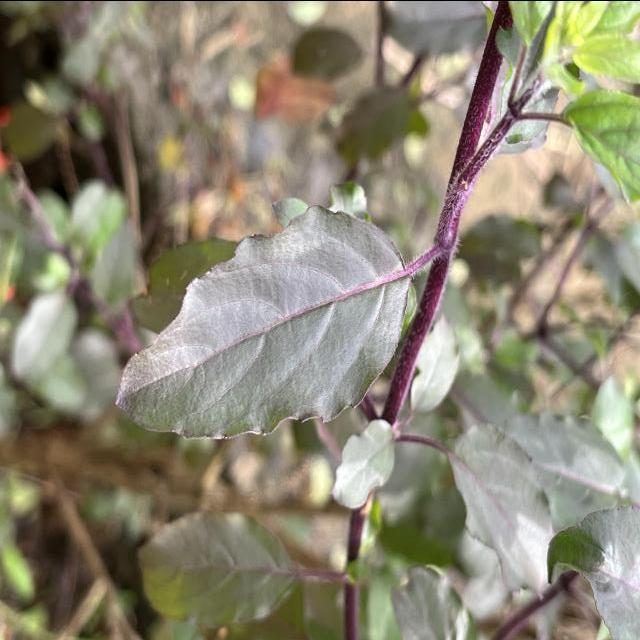Ocimum tenuiflorum: (113, 202, 414, 440)
